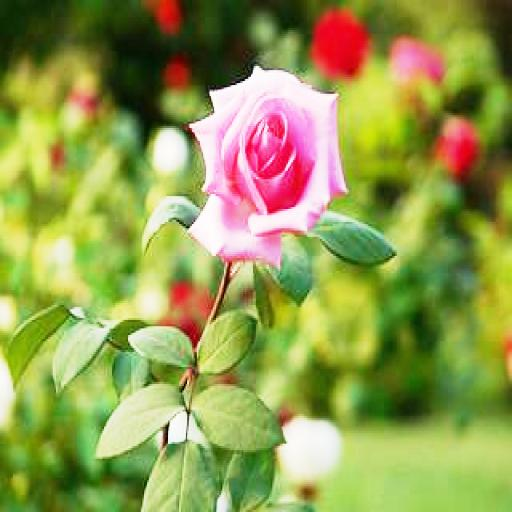rose: (194, 62, 347, 260)
